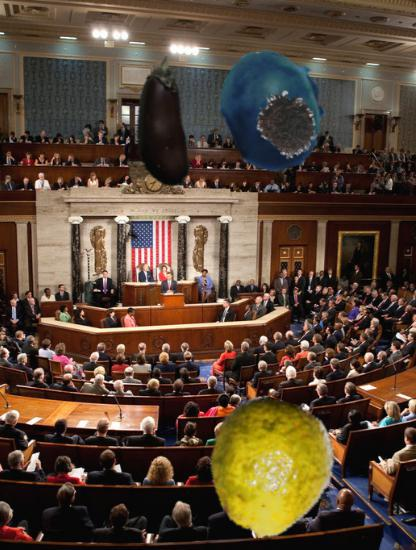Eggplant: (96, 60, 226, 190)
Guava: (200, 399, 339, 538)
Huckleberry: (213, 48, 335, 170)
Rambutan: (250, 87, 325, 162)
